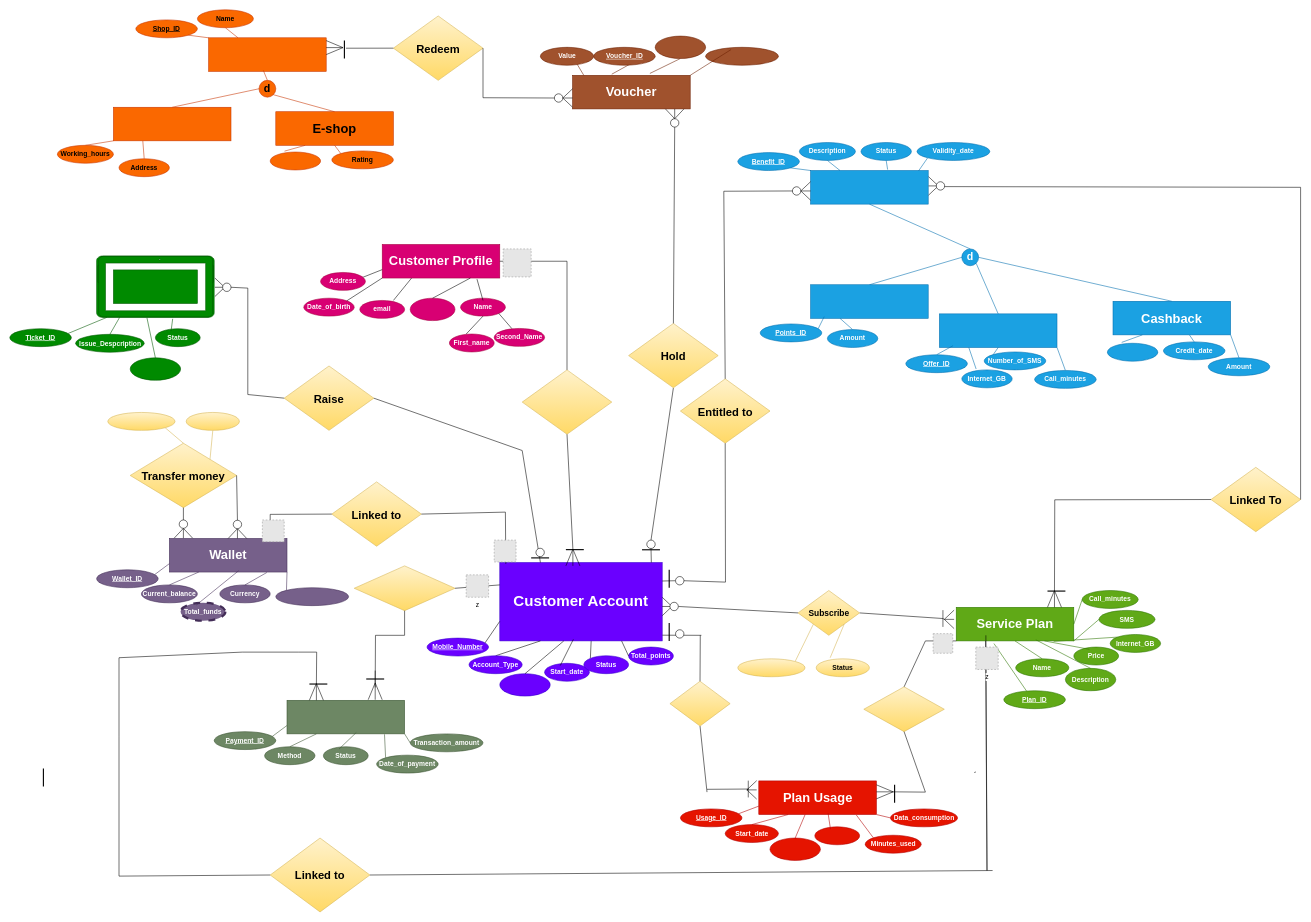
Image size: 1311x922. Some labels were removed from this diagram. Grey dashed boxes stand in for pictures. Each missing label, with the box of its shape:
Amount_sent: (107, 412, 175, 430)
Associated to: (863, 686, 944, 732)
Benefits: (810, 170, 928, 204)
Cashback_ID: (1107, 343, 1158, 361)
Date: (186, 412, 239, 430)
End_date: (769, 837, 820, 860)
Exclusive Offer: (939, 313, 1057, 347)
Expire_date: (655, 36, 706, 59)
Has: (522, 369, 612, 434)
Initiated By: (354, 565, 455, 611)
Last_modified_date: (275, 587, 349, 606)
Line_balance: (499, 673, 550, 696)
National_ID: (410, 298, 455, 321)
Payment: (286, 700, 405, 734)
Physical Shop: (113, 107, 231, 141)
Points Group: (810, 284, 928, 318)
Points_required: (705, 47, 778, 65)
Priority_level: (130, 357, 181, 380)
Shop: (208, 37, 326, 71)
SMS_sent: (814, 826, 860, 845)
Subscription_date: (737, 658, 805, 677)
Technical Support Ticket: (113, 269, 197, 304)
Track: (669, 681, 730, 726)
Website_URL: (270, 151, 321, 170)
